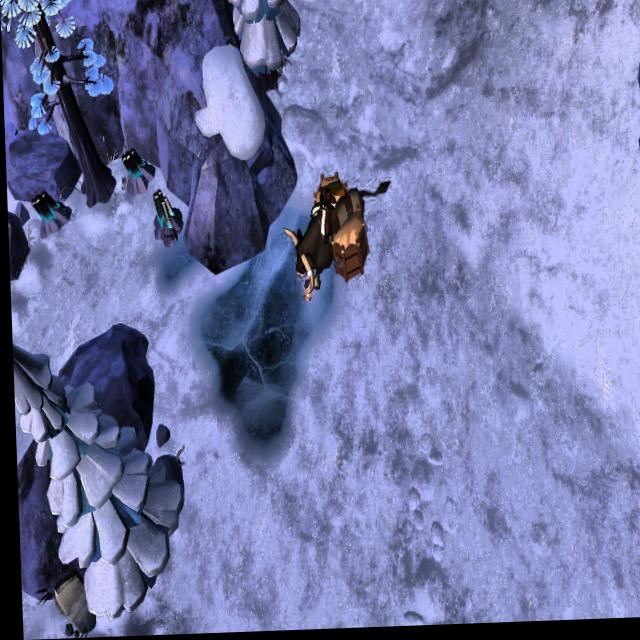ore_t4: (150, 186, 177, 238), (29, 189, 59, 223), (120, 147, 145, 185)
